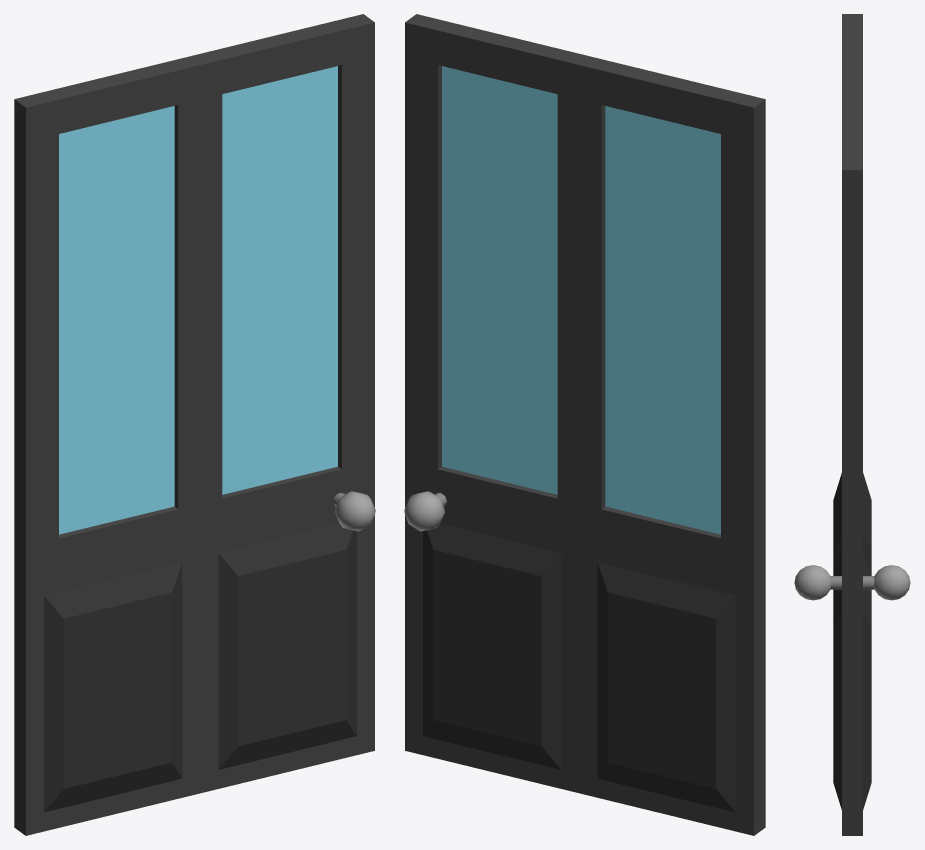
File: SM_Buildings_House_10_Door.fbx
3 renders of one model, left to right at view 1: azimuth 30°, elevation 25°; view 2: azimuth 150°, elevation 25°; view 3: azimuth 270°, elevation 25°, orthographic. The views are drawn at different scales.
Visible parts, largest first — view 1: SM_Buildings_House_10_Door; view 2: SM_Buildings_House_10_Door; view 3: SM_Buildings_House_10_Door.
Boxes of the visible parts, bbox=[...] form: SM_Buildings_House_10_Door: bbox=[14, 14, 375, 835]; SM_Buildings_House_10_Door: bbox=[404, 14, 765, 835]; SM_Buildings_House_10_Door: bbox=[794, 14, 910, 835].
Size of the model in its own units: 1 by 2 by 0.3161.
